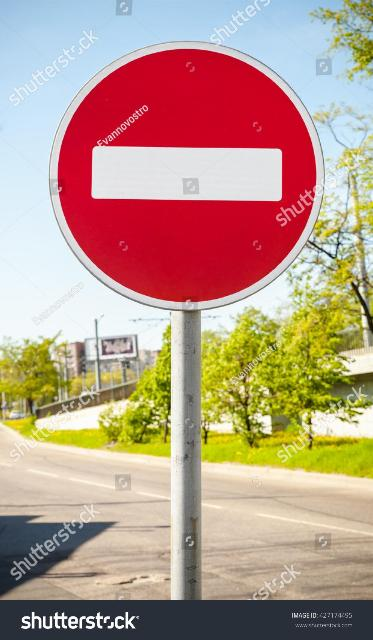B2: (48, 40, 326, 312)
